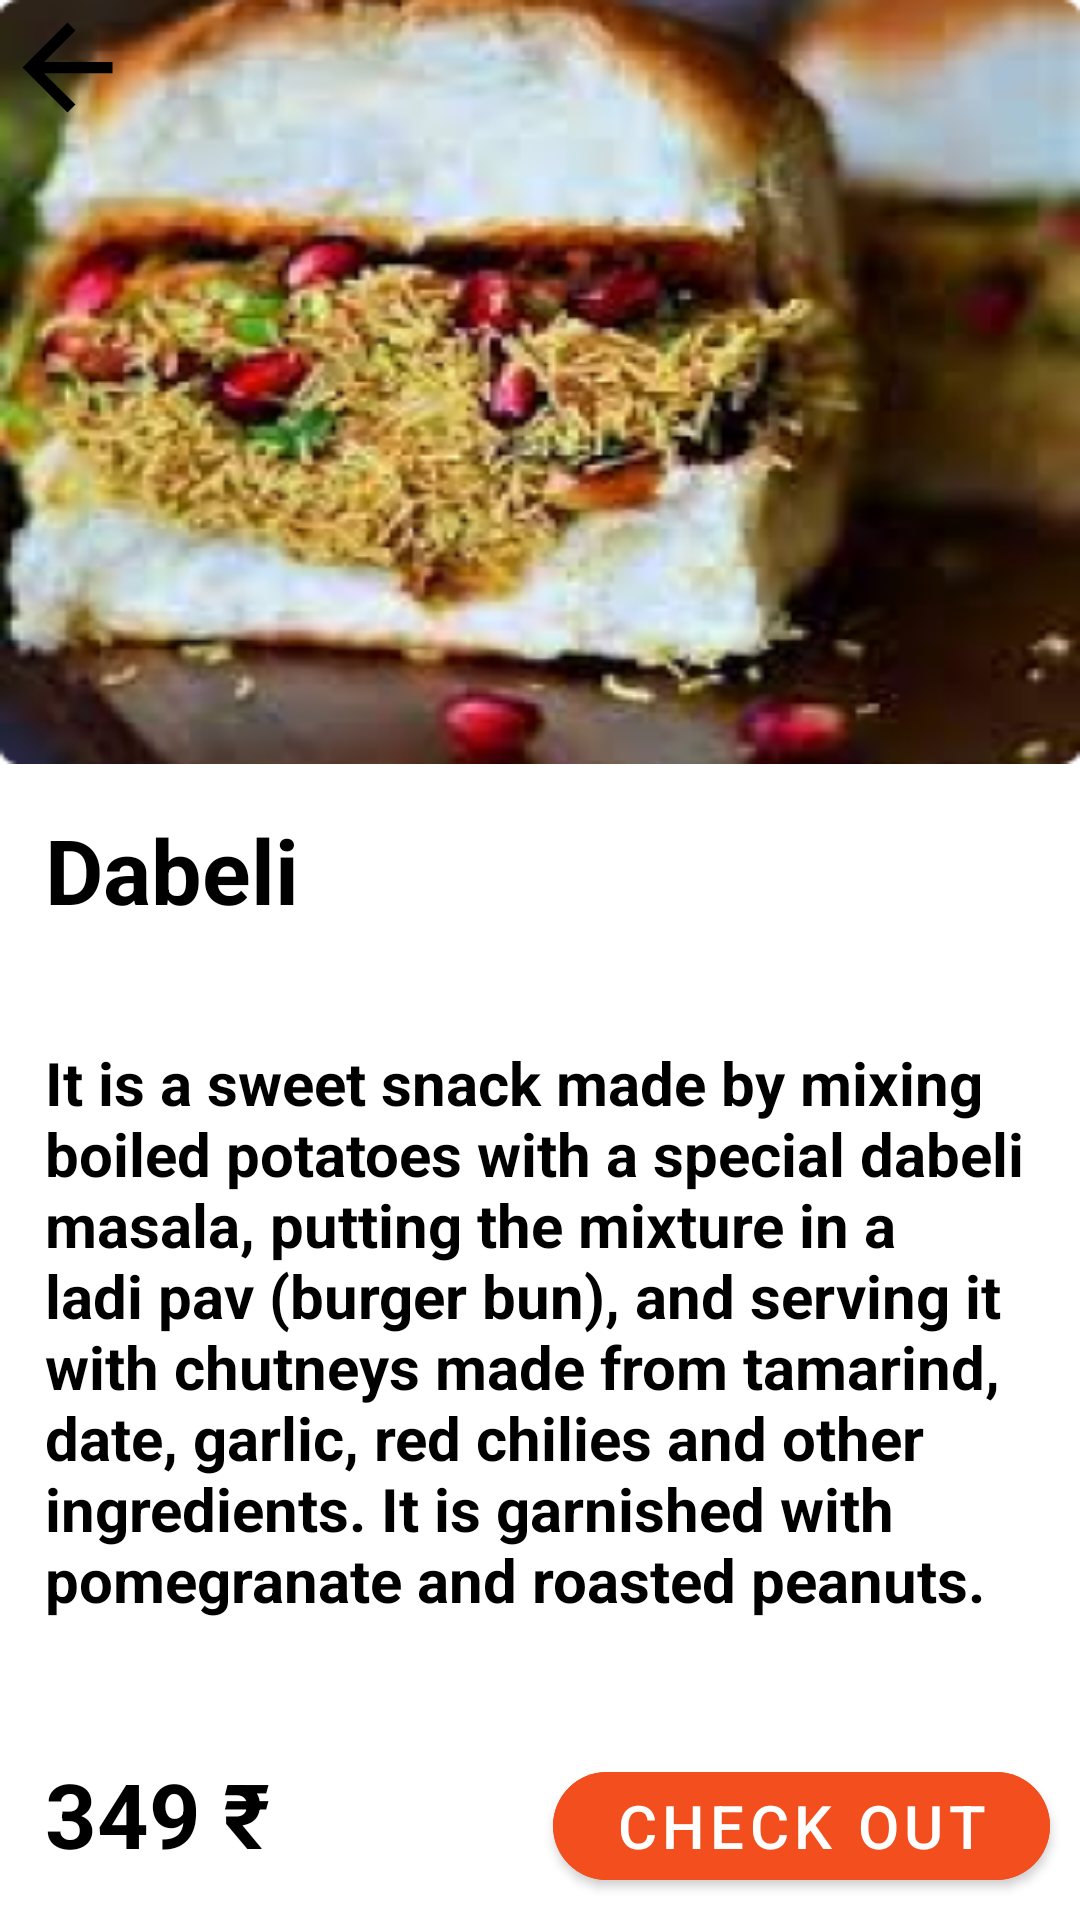

Point at icon controls on the screen. Image size 1080*1920, points as [x,y].
back: [67,67]
